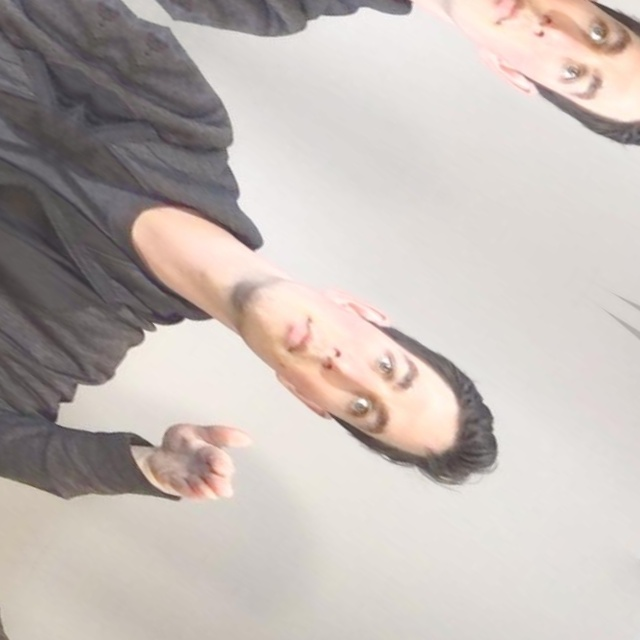Paper: (124, 383, 278, 532)
